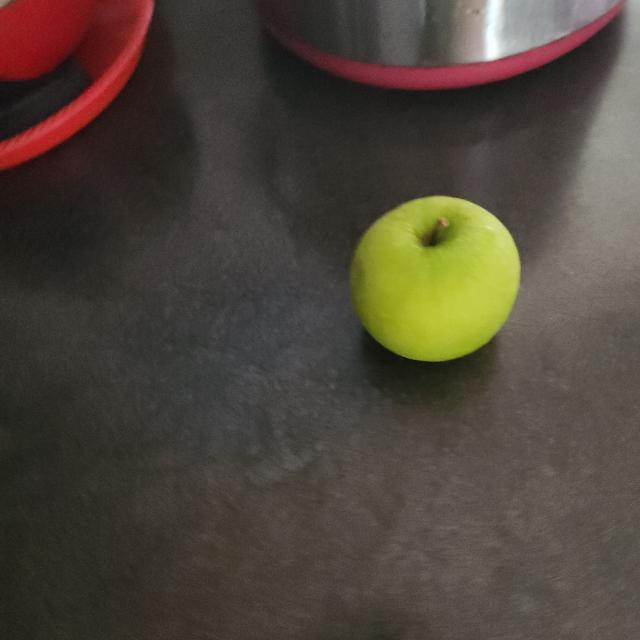apple: (344, 192, 530, 372)
